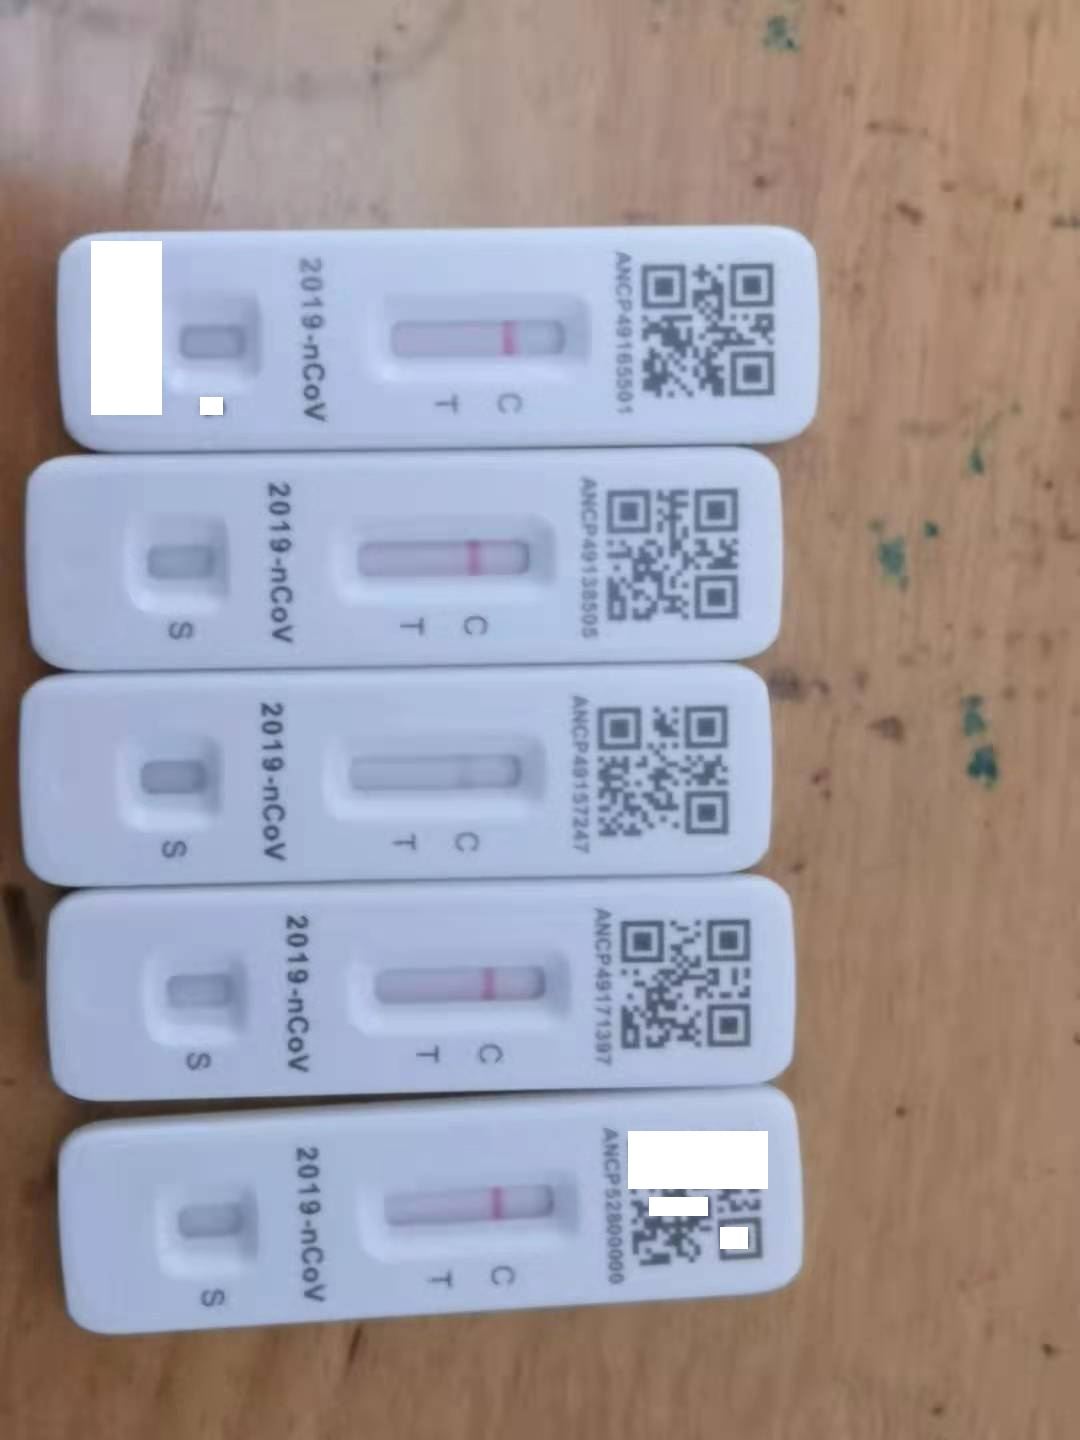negative: (330, 517, 565, 599), (371, 296, 594, 375), (327, 742, 542, 807), (365, 958, 568, 1022), (378, 1179, 572, 1243)
